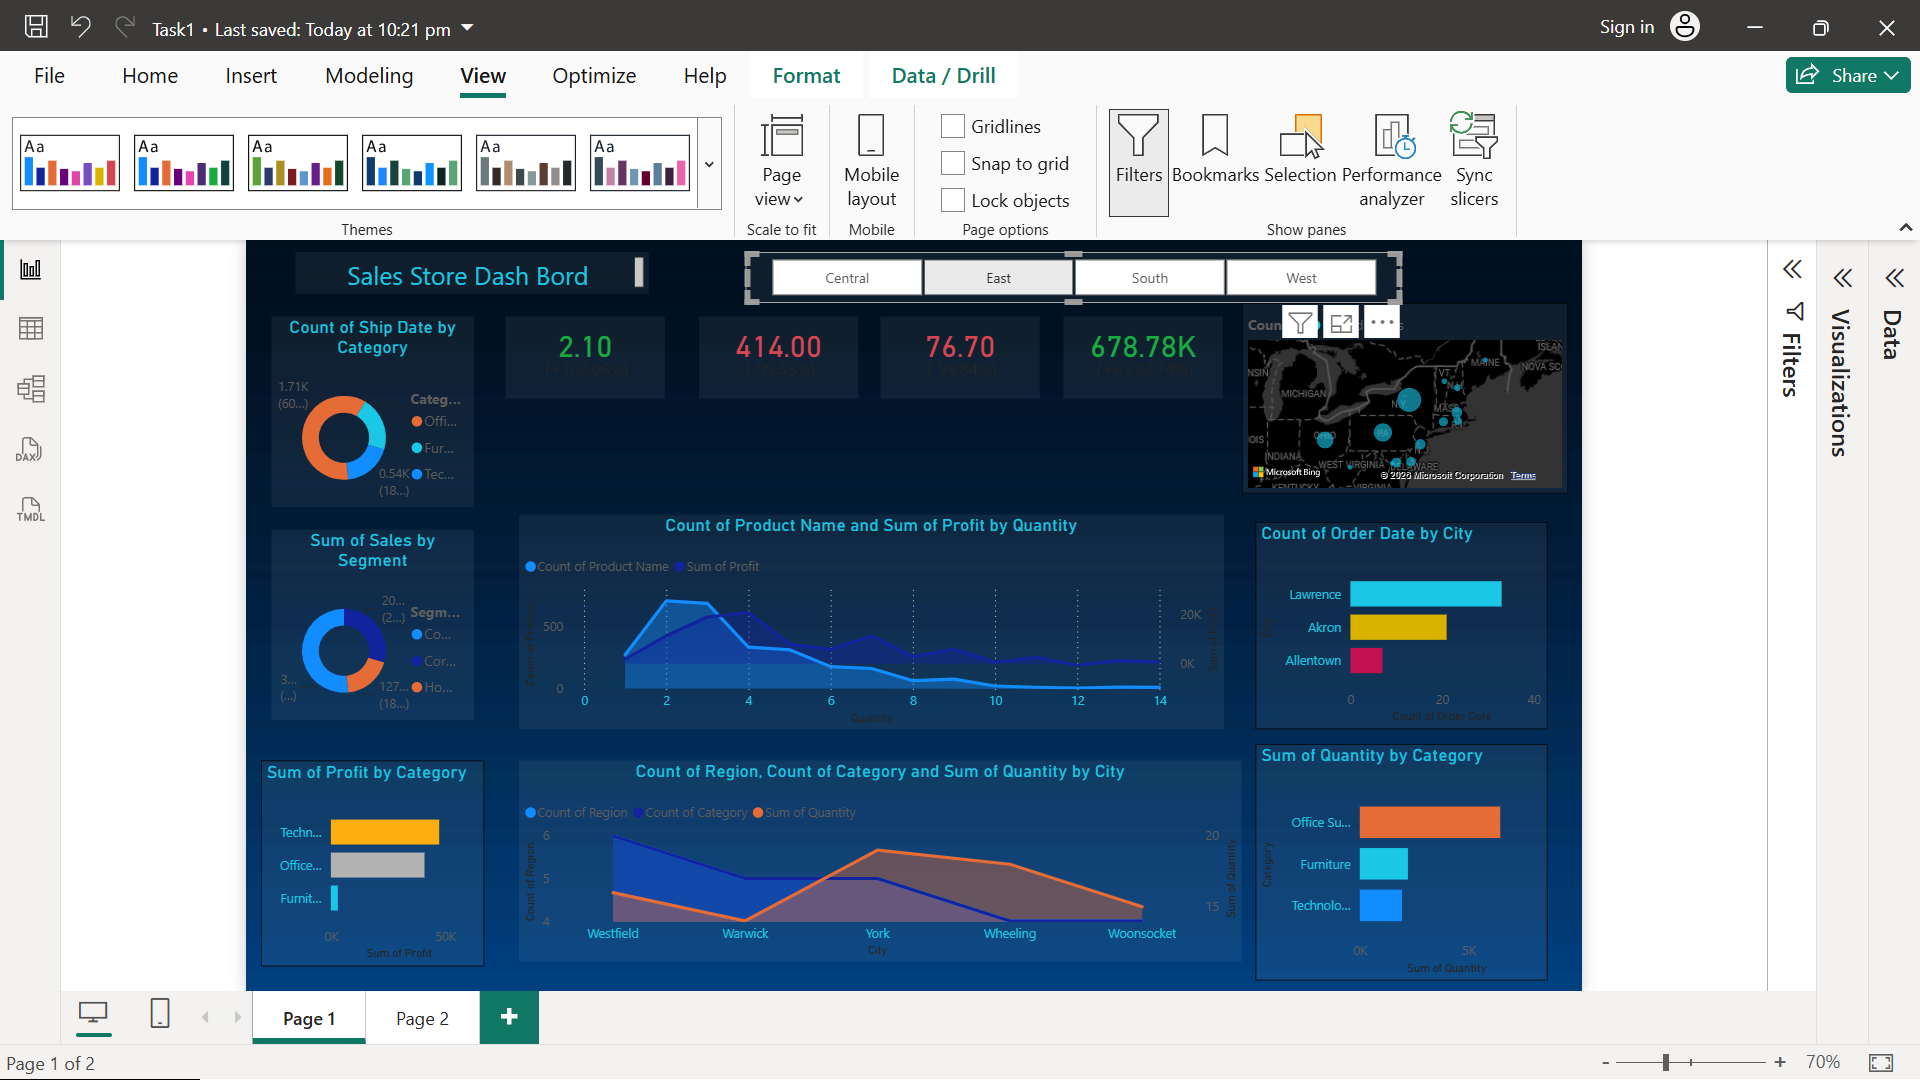

This screenshot's page, from the dashboard's own definition file:
{"tool":"powerbi","page":{"name":"Page 1","canvas":[1280,720],"ordinal":0},"visuals":[{"type":"clusteredBarChart","fields":{"Category":["Sample - Superstore.Category"],"Y":["Sum(Sample - Superstore.Quantity)"]},"box":[967.1,482.9,279.7,226.8],"z":0},{"type":"clusteredBarChart","fields":{"Category":["Sample - Superstore.City"],"Y":["CountNonNull(Sample - Superstore.Order Date)"]},"box":[967.1,270,279.7,198.4],"z":1000},{"type":"clusteredBarChart","fields":{"Y":["Sum(Sample - Superstore.Profit)"],"Category":["Sample - Superstore.Category"]},"box":[14.3,498.6,214.3,197.1],"z":2000},{"type":"areaChart","fields":{"Y":["CountNonNull(Sample - Superstore.Product Name)"],"Category":["Sample - Superstore.Quantity"],"Y2":["Sum(Sample - Superstore.Profit)"]},"box":[261.4,262.9,675.7,205.7],"z":3000},{"type":"areaChart","fields":{"Y":["CountNonNull(Sample - Superstore.Region)","CountNonNull(Sample - Superstore.Category)"],"Category":["Sample - Superstore.City"],"Y2":["Sum(Sample - Superstore.Quantity)"]},"box":[261.4,498.6,692.9,192.9],"z":4000},{"type":"map","fields":{"Category":["Sample - Superstore.State"],"Series":["Sample - Superstore.Country"],"Size":["CountNonNull(Sample - Superstore.Region)"]},"box":[954.3,60,312.9,182.9],"z":5000},{"type":"donutChart","fields":{"Y":["Sum(Sample - Superstore.Sales)"],"Category":["Sample - Superstore.Segment"]},"box":[24.3,277.1,194.3,182.9],"z":6000},{"type":"donutChart","fields":{"Y":["CountNonNull(Sample - Superstore.Ship Date)"],"Category":["Sample - Superstore.Category"]},"box":[24.3,72.9,194.3,182.9],"z":7000},{"type":"slicer","fields":{"Values":["Sample - Superstore.Region"]},"box":[478.6,11.4,628.6,48.6],"z":8000},{"type":"textbox","box":[47.1,11.4,338.6,40],"z":9000},{"type":"kpi","fields":{"Indicator":["Sum(Sample - Superstore.Discount)"],"Goal":["Sum(Sample - Superstore.Profit)"],"TrendLine":["Sample - Superstore.City"]},"box":[248.6,72.9,152.9,78.6],"z":10000},{"type":"kpi","fields":{"Indicator":["Sum(Sample - Superstore.Discount)"],"Goal":["Sum(Sample - Superstore.Profit)"],"TrendLine":["Sample - Superstore.Category"]},"box":[608.6,72.9,152.9,78.6],"z":11000},{"type":"kpi","fields":{"Indicator":["Sum(Sample - Superstore.Discount)"],"Goal":["Sum(Sample - Superstore.Profit)"],"TrendLine":["Sample - Superstore.Region"]},"box":[434.3,72.9,152.9,78.6],"z":12000},{"type":"kpi","fields":{"Indicator":["Sum(Sample - Superstore.Sales)"],"Goal":["Sum(Sample - Superstore.Quantity)"],"TrendLine":["Sample - Superstore.Region"]},"box":[784.3,72.9,152.9,78.6],"z":13000}]}

Visuals, with their boxes on the page's 1280x720 design canvas (x1, y1, x2, y2). These are canvas units, not pixel positions in the 1920x1080 screenshot, which may show the page scaled, cropped or inside an application window:
clusteredBarChart - Sample - Superstore.Category x Sum(Sample - Superstore.Quantity): pyautogui.locateOnScreen(967, 483, 1247, 710)
clusteredBarChart - Sample - Superstore.City x CountNonNull(Sample - Superstore.Order Date): pyautogui.locateOnScreen(967, 270, 1247, 468)
clusteredBarChart - Sum(Sample - Superstore.Profit) x Sample - Superstore.Category: pyautogui.locateOnScreen(14, 499, 229, 696)
areaChart - CountNonNull(Sample - Superstore.Product Name) x Sample - Superstore.Quantity: pyautogui.locateOnScreen(261, 263, 937, 469)
areaChart - CountNonNull(Sample - Superstore.Region) x CountNonNull(Sample - Superstore.Category): pyautogui.locateOnScreen(261, 499, 954, 692)
map - Sample - Superstore.State x Sample - Superstore.Country: pyautogui.locateOnScreen(954, 60, 1267, 243)
donutChart - Sum(Sample - Superstore.Sales) x Sample - Superstore.Segment: pyautogui.locateOnScreen(24, 277, 219, 460)
donutChart - CountNonNull(Sample - Superstore.Ship Date) x Sample - Superstore.Category: pyautogui.locateOnScreen(24, 73, 219, 256)
slicer - Sample - Superstore.Region: pyautogui.locateOnScreen(479, 11, 1107, 60)
textbox: pyautogui.locateOnScreen(47, 11, 386, 51)
kpi - Sum(Sample - Superstore.Discount) x Sum(Sample - Superstore.Profit): pyautogui.locateOnScreen(249, 73, 402, 152)
kpi - Sum(Sample - Superstore.Discount) x Sum(Sample - Superstore.Profit): pyautogui.locateOnScreen(609, 73, 762, 152)
kpi - Sum(Sample - Superstore.Discount) x Sum(Sample - Superstore.Profit): pyautogui.locateOnScreen(434, 73, 587, 152)
kpi - Sum(Sample - Superstore.Sales) x Sum(Sample - Superstore.Quantity): pyautogui.locateOnScreen(784, 73, 937, 152)
